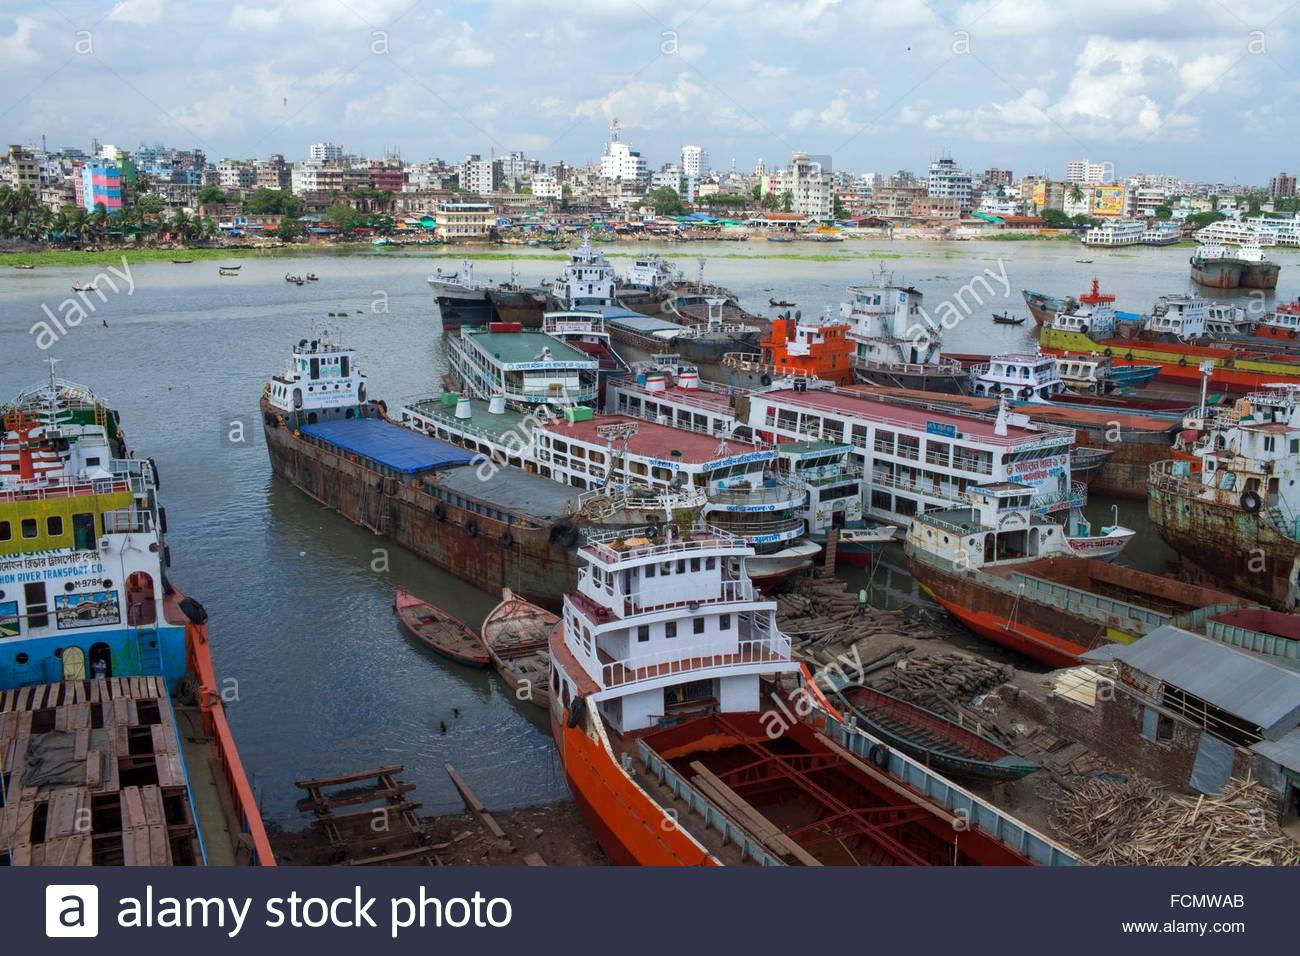boat: (815, 668, 1047, 791), (483, 583, 556, 714), (392, 585, 492, 674), (993, 313, 1030, 327)
launch: (545, 420, 1090, 865), (1, 361, 280, 868), (263, 323, 705, 609), (606, 362, 1137, 559), (398, 393, 822, 591), (899, 479, 1300, 664), (773, 339, 1186, 475), (1021, 283, 1300, 394), (545, 227, 744, 361), (429, 236, 684, 329), (447, 322, 600, 413), (654, 274, 790, 358), (1189, 239, 1282, 291), (1084, 210, 1150, 249), (1198, 217, 1269, 251)
